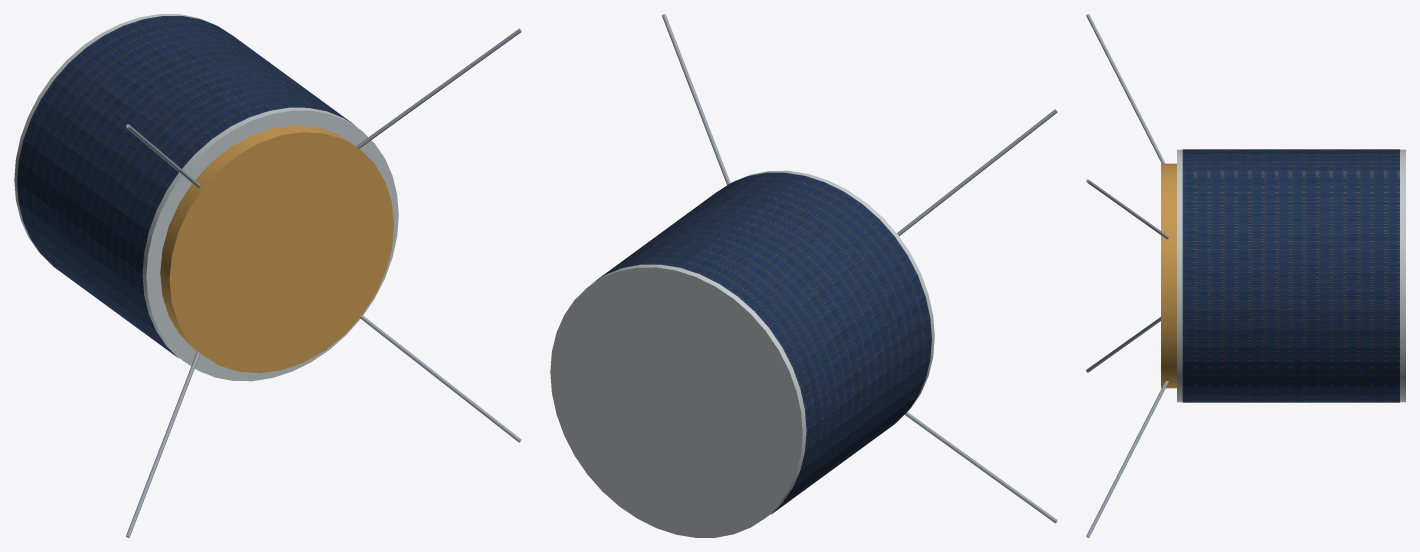
Rendered from ref-skynet-2-7096.glb.
3 views of the same model, side by side, from view 1: azimuth 30°, elevation 25°; view 2: azimuth 150°, elevation 25°; view 3: azimuth 270°, elevation 25° (orthographic). The views are drawn at different scales.
Visible parts, largest first — view 1: Body-mounted solar cells, Despun equipment deck, Solar drum core, Whip antenna (×3); view 2: Solar drum core, Body-mounted solar cells, Whip antenna (×3); view 3: Body-mounted solar cells, Despun equipment deck, Solar drum core, Whip antenna (×3).
Boxes of the visible parts, x1,y1,x2,y2 form: Body-mounted solar cells: (17, 16, 356, 358); Despun equipment deck: (160, 125, 393, 373); Solar drum core: (14, 14, 398, 381); Whip antenna (×3): (126, 28, 521, 537); Solar drum core: (550, 170, 934, 537); Body-mounted solar cells: (593, 172, 931, 514); Whip antenna (×3): (662, 14, 1057, 523); Body-mounted solar cells: (1182, 149, 1399, 402); Despun equipment deck: (1161, 163, 1176, 388); Solar drum core: (1177, 149, 1405, 402); Whip antenna (×3): (1086, 14, 1168, 537).
Bounding box in the file's own units: 2.97 × 2.97 × 2.41.
Materials: 4 (1 with a texture image).
